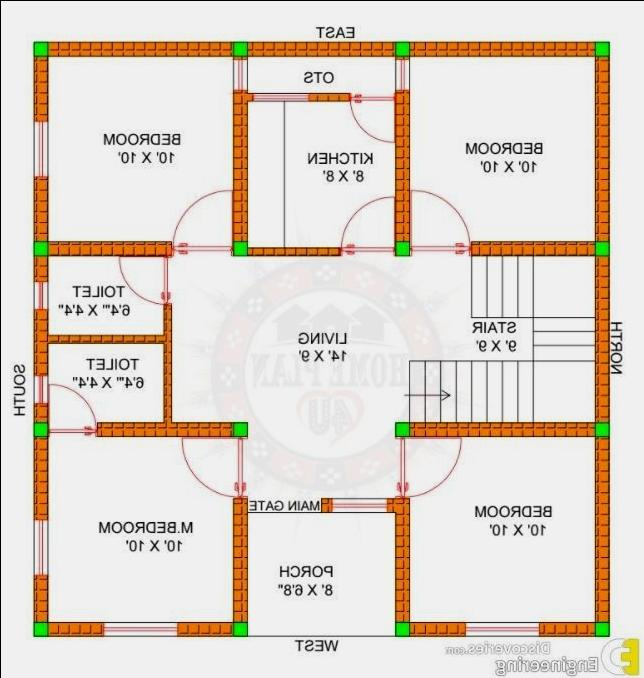Blueprint: (24, 30, 616, 643)
wall: (228, 86, 256, 242), (591, 433, 612, 624), (405, 38, 596, 59), (45, 38, 234, 59), (405, 418, 597, 438), (592, 53, 610, 243), (592, 250, 611, 424), (245, 37, 398, 58), (392, 86, 412, 244), (467, 236, 598, 260), (92, 418, 234, 440), (43, 238, 174, 258), (392, 494, 411, 623), (230, 492, 248, 626), (158, 299, 176, 424), (44, 331, 166, 347), (30, 432, 50, 522), (30, 305, 50, 381), (30, 172, 50, 244), (244, 243, 343, 257), (45, 617, 105, 640), (30, 53, 49, 125), (29, 567, 52, 625), (172, 618, 235, 639), (536, 619, 598, 639), (405, 618, 466, 638), (305, 88, 351, 106), (30, 253, 49, 283), (29, 398, 49, 425), (320, 494, 332, 514)
